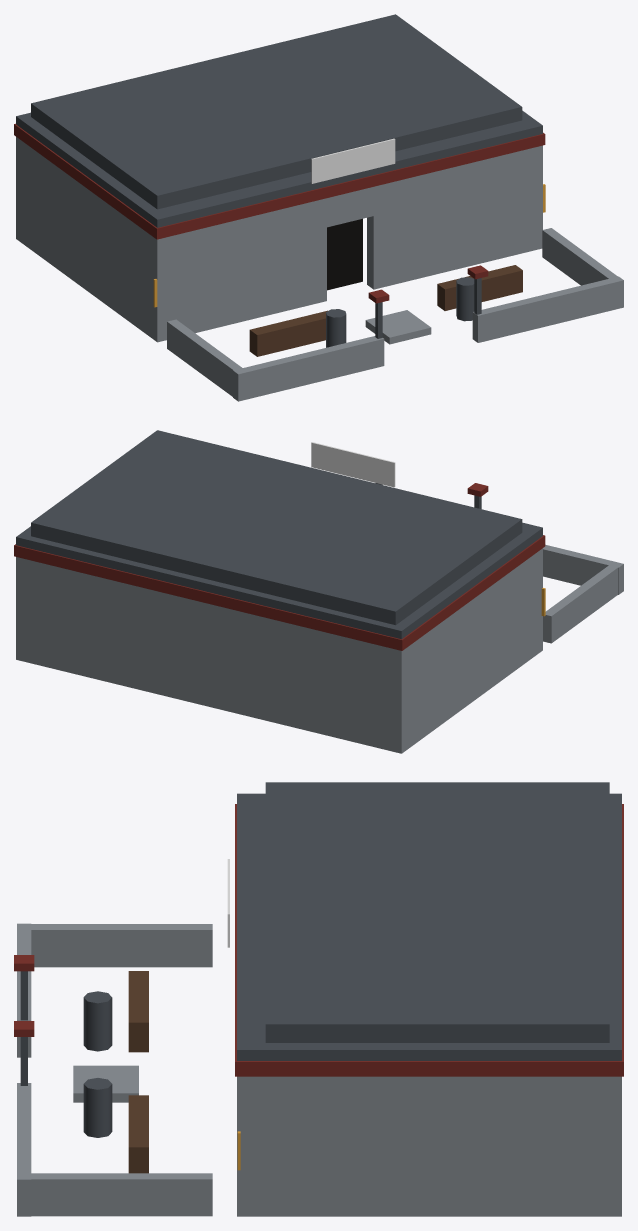
3 views of the same model, one above another, from view 1: azimuth 30°, elevation 25°; view 2: azimuth 150°, elevation 25°; view 3: azimuth 270°, elevation 25° (orthographic). The views are drawn at different scales.
Visible parts, largest first — view 1: garde_building_barracks; view 2: garde_building_barracks; view 3: garde_building_barracks.
Boxes of the visible parts, bbox=[...] form: garde_building_barracks: bbox=[14, 14, 623, 401]; garde_building_barracks: bbox=[14, 430, 623, 753]; garde_building_barracks: bbox=[14, 782, 623, 1216].
Bounding box in the file's own units: 15 × 5.45 × 14.9.
